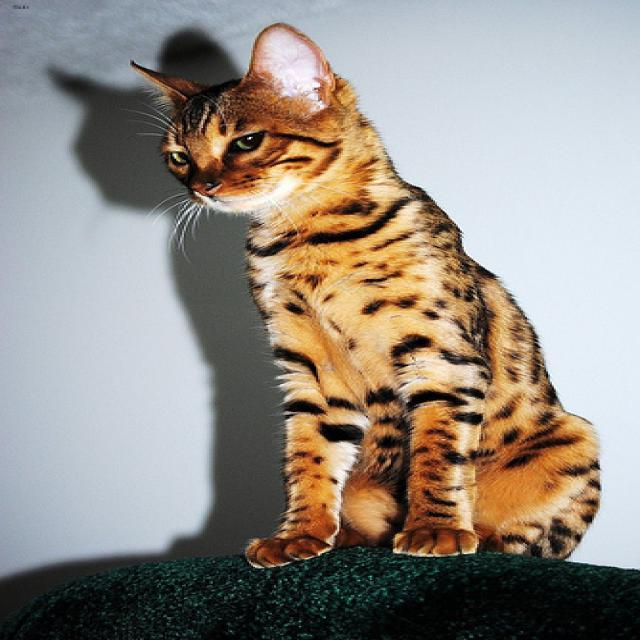Bengal: (127, 22, 353, 211)
